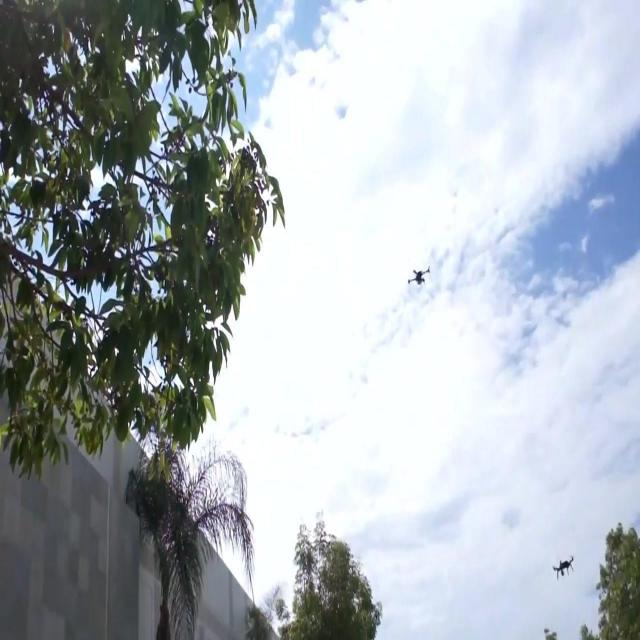UAV: (551, 554, 575, 580), (408, 265, 430, 285)
